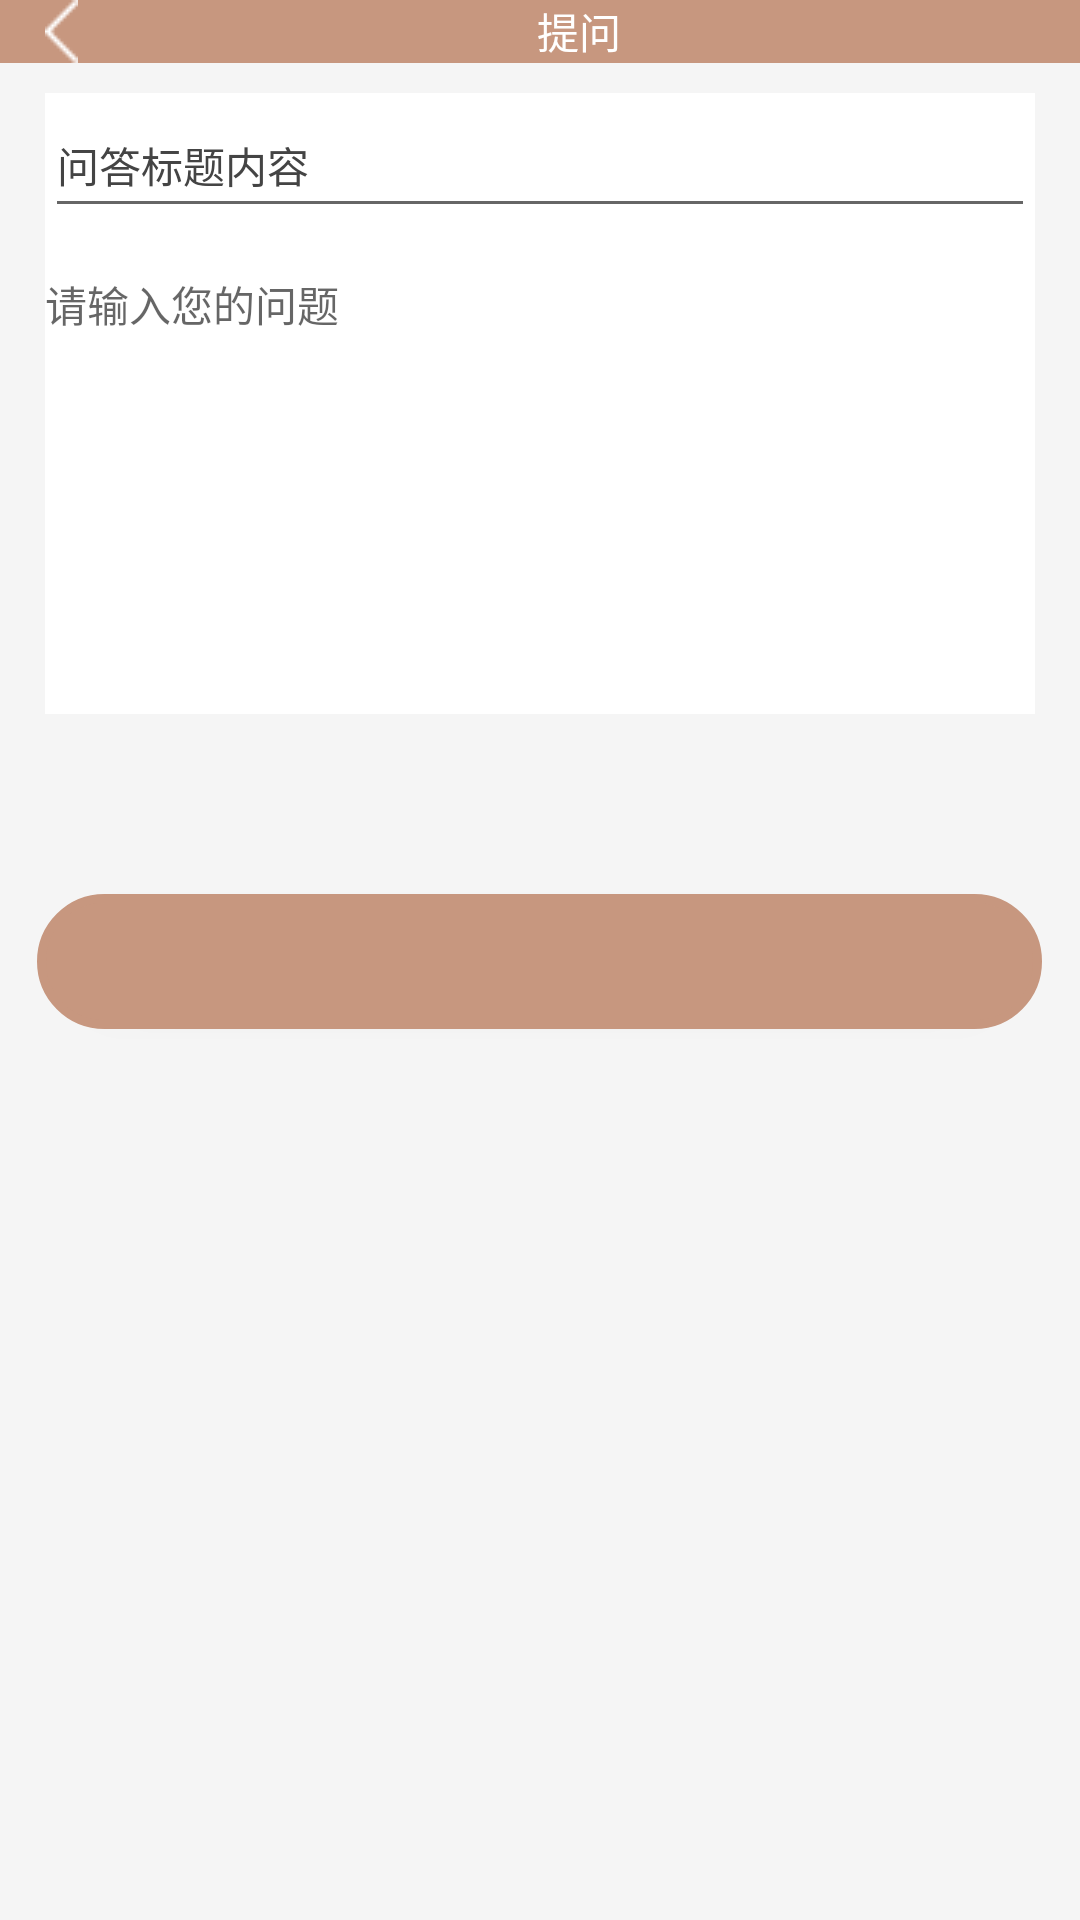

Where icons sit on this 1080 x 1920 app screen, as (x1, y1, x2, y2):
back: (45, 0, 78, 63)
